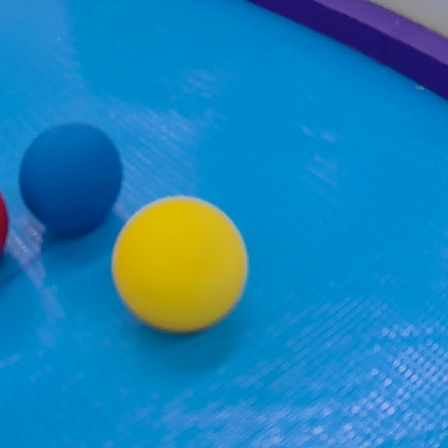blue: (12, 115, 125, 236)
blue_aim: (1, 2, 448, 446)
yellow: (113, 192, 249, 338)
